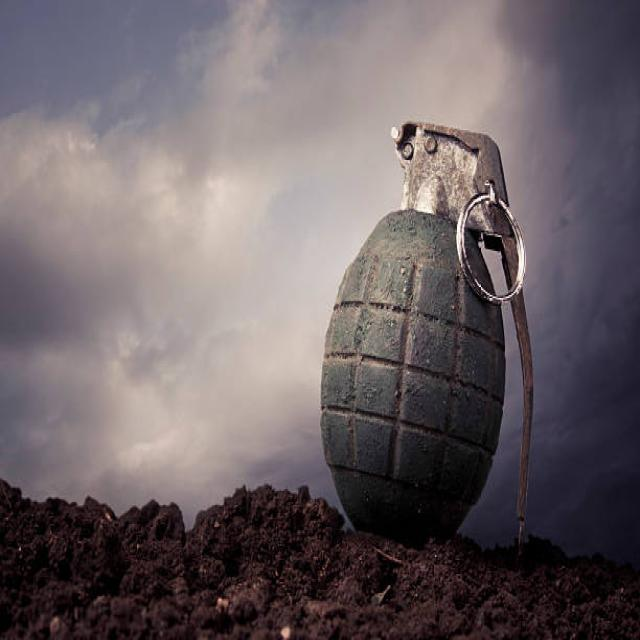grenade: (311, 118, 544, 566)
